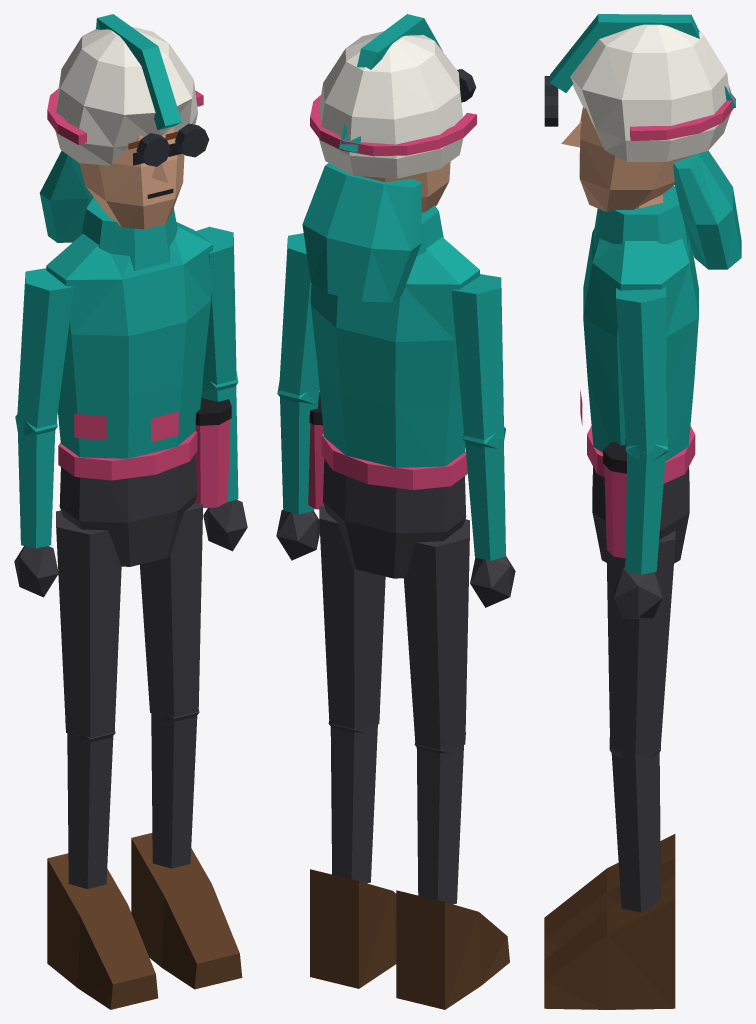
The model's file is juniper-moss.glb.
The picture shows the model from 3 angles, left to right: view 1: azimuth 30°, elevation 25°; view 2: azimuth 150°, elevation 25°; view 3: azimuth 270°, elevation 25°; orthographic projection. The views are drawn at different scales.
Parts seen in each view (by area): view 1: chest_mesh, head_mesh, shin_r_mesh, shin_l_mesh, hips_mesh, thigh_r_mesh, thigh_l_mesh, upper_arm_r_mesh, forearm_r_mesh, upper_arm_l_mesh, head_detail, prop_mesh (+3 smaller); view 2: chest_mesh, head_mesh, shin_r_mesh, shin_l_mesh, hair_mesh, hips_mesh, thigh_r_mesh, thigh_l_mesh, upper_arm_r_mesh, forearm_r_mesh, upper_arm_l_mesh, forearm_l_mesh (+2 smaller); view 3: head_mesh, shin_l_mesh, chest_mesh, thigh_l_mesh, upper_arm_l_mesh, forearm_l_mesh, hair_mesh, hips_mesh, shin_r_mesh, head_detail, prop_mesh.
Part boxes in pixels (left/top/right/bottom): chest_mesh: left=46, top=197, right=212, bottom=458; head_mesh: left=47, top=26, right=209, bottom=229; shin_r_mesh: left=47, top=733, right=158, bottom=1009; shin_l_mesh: left=131, top=713, right=242, bottom=989; hips_mesh: left=58, top=431, right=197, bottom=566; thigh_r_mesh: left=56, top=510, right=121, bottom=742; thigh_l_mesh: left=140, top=502, right=202, bottom=721; upper_arm_r_mesh: left=15, top=268, right=73, bottom=435; forearm_r_mesh: left=14, top=425, right=58, bottom=597; upper_arm_l_mesh: left=196, top=226, right=238, bottom=392; head_detail: left=96, top=14, right=182, bottom=198; prop_mesh: left=195, top=398, right=231, bottom=507; chest_mesh: left=310, top=205, right=479, bottom=467; head_mesh: left=310, top=31, right=476, bottom=212; shin_r_mesh: left=396, top=745, right=509, bottom=1009; shin_l_mesh: left=310, top=724, right=396, bottom=988; hair_mesh: left=302, top=163, right=421, bottom=302; hips_mesh: left=321, top=433, right=467, bottom=578; thigh_r_mesh: left=404, top=519, right=469, bottom=753; thigh_l_mesh: left=319, top=506, right=385, bottom=732; upper_arm_r_mesh: left=451, top=274, right=505, bottom=448; forearm_r_mesh: left=465, top=437, right=515, bottom=607; upper_arm_l_mesh: left=277, top=233, right=319, bottom=404; forearm_l_mesh: left=276, top=395, right=319, bottom=560; head_mesh: left=544, top=24, right=733, bottom=211; shin_l_mesh: left=544, top=752, right=675, bottom=1009; chest_mesh: left=583, top=186, right=698, bottom=461; thigh_l_mesh: left=606, top=530, right=675, bottom=758; upper_arm_l_mesh: left=616, top=286, right=667, bottom=461; forearm_l_mesh: left=614, top=452, right=665, bottom=618; hair_mesh: left=673, top=151, right=741, bottom=269; hips_mesh: left=587, top=426, right=695, bottom=563; shin_r_mesh: left=544, top=753, right=675, bottom=959; head_detail: left=550, top=14, right=735, bottom=147; prop_mesh: left=603, top=442, right=626, bottom=558.
Size of the model in its own units: 0.4675 by 1.86 by 0.3468.
